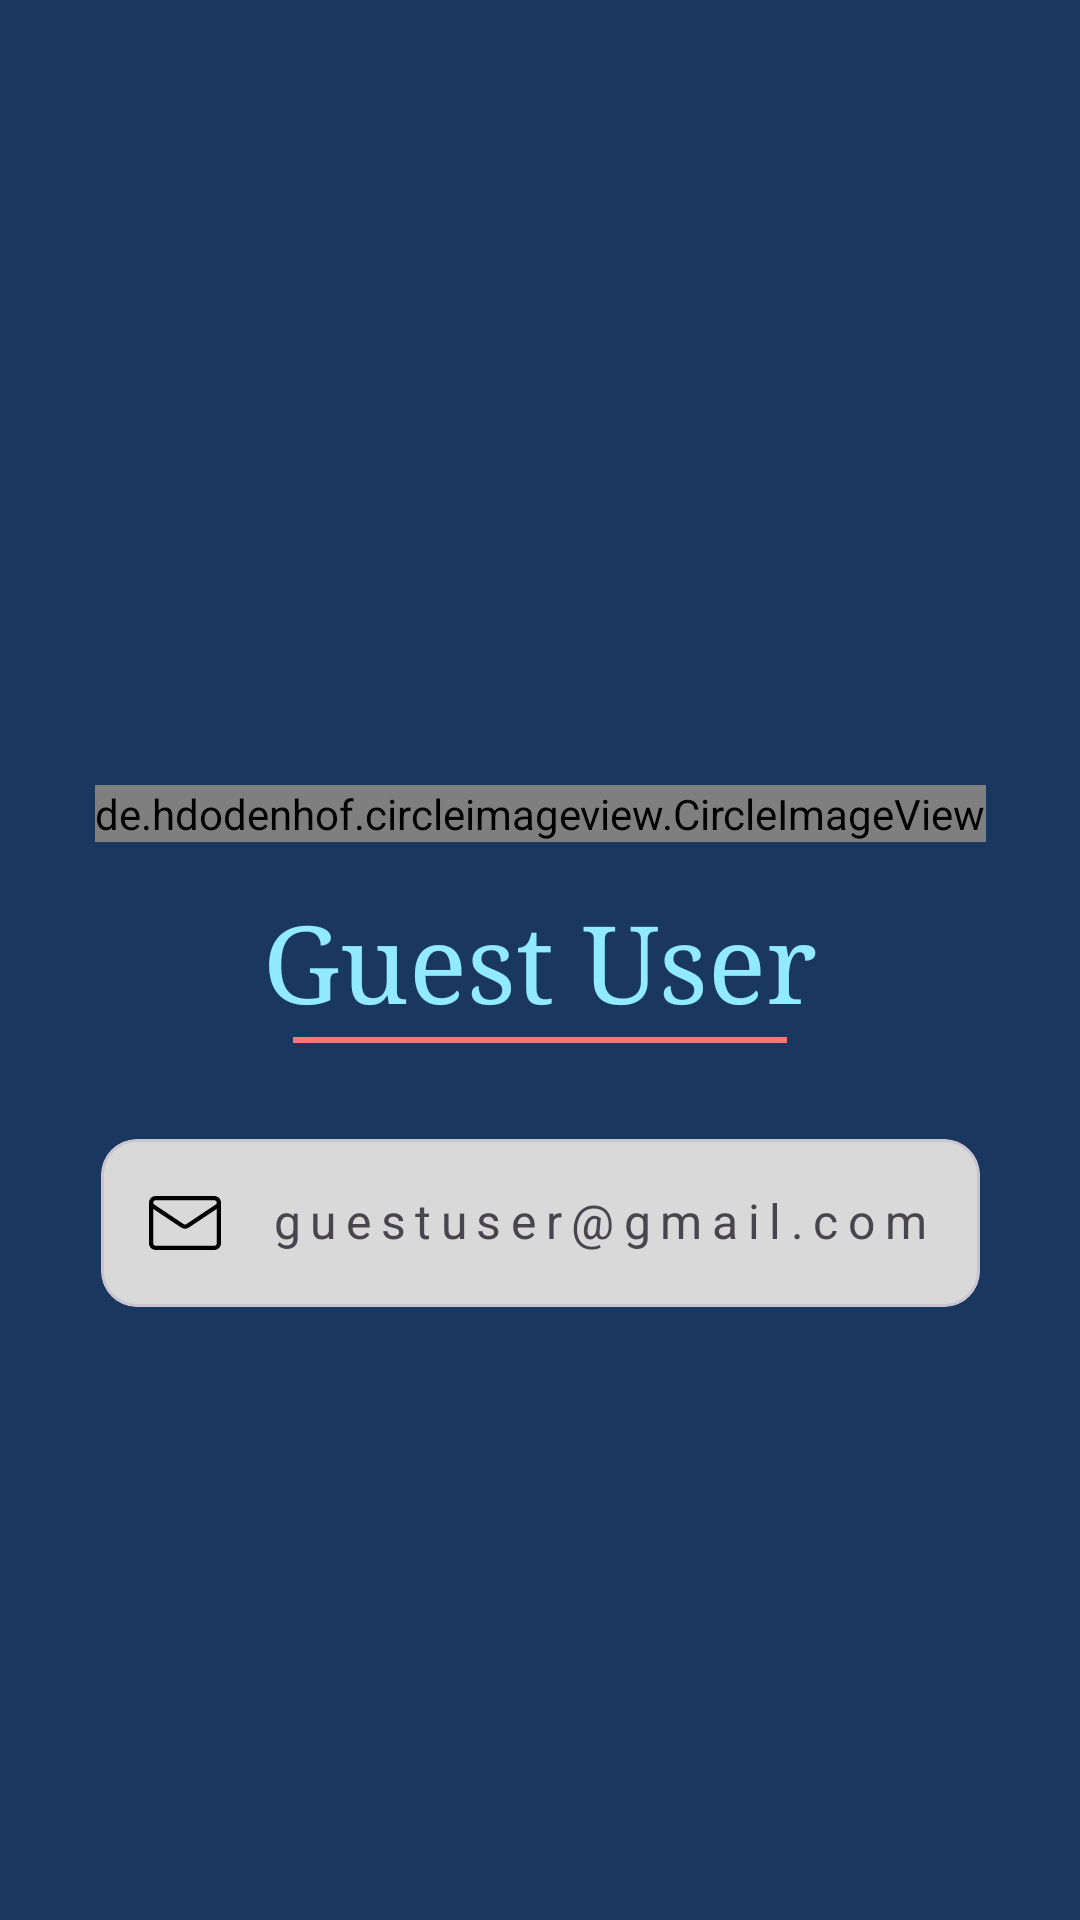

Screen size 1080px×1920px. Icon name, then its center in pixels as point (x, y):
email: point (185, 1223)
